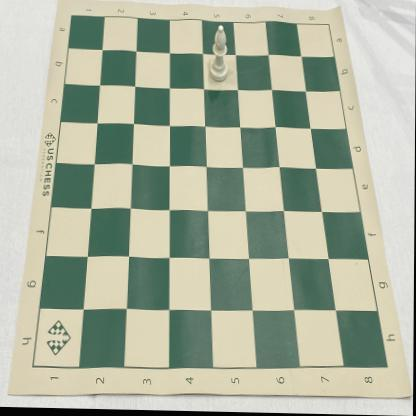white-bishop: (208, 26, 229, 84)
